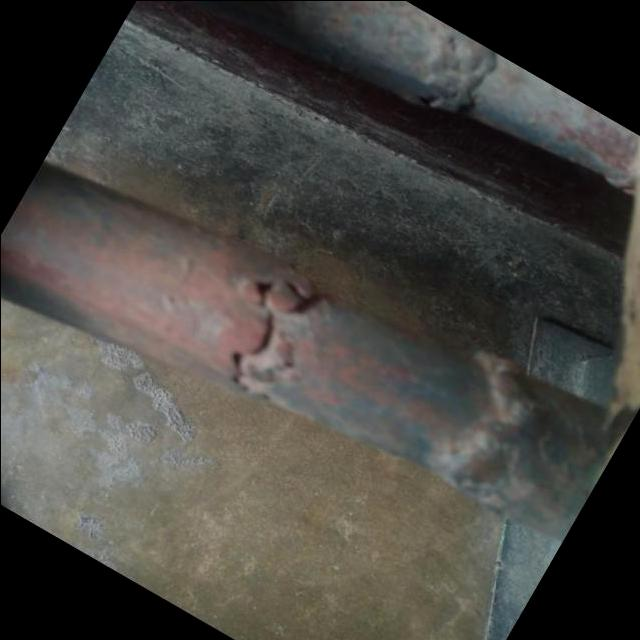defect: (224, 276, 323, 400)
